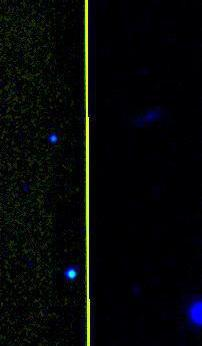star: (176, 299, 202, 329)
